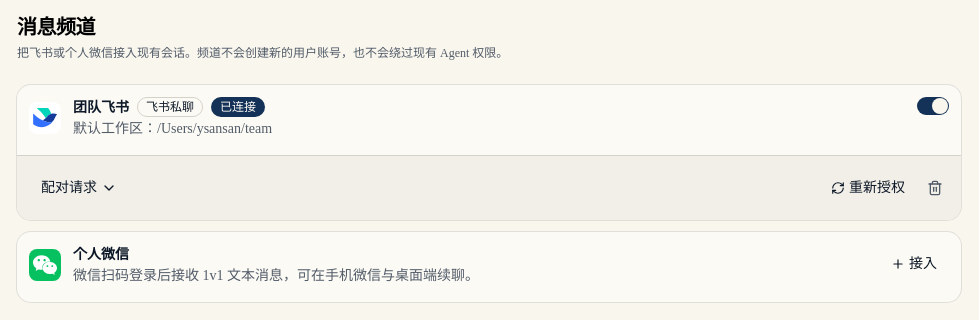
Test: channelsPage 平台槽位布局 › 用开关停用频道，并同步状态徽标
Click the switch named "停用频道" at (933, 106), box left=917, top=97, right=949, bottom=115
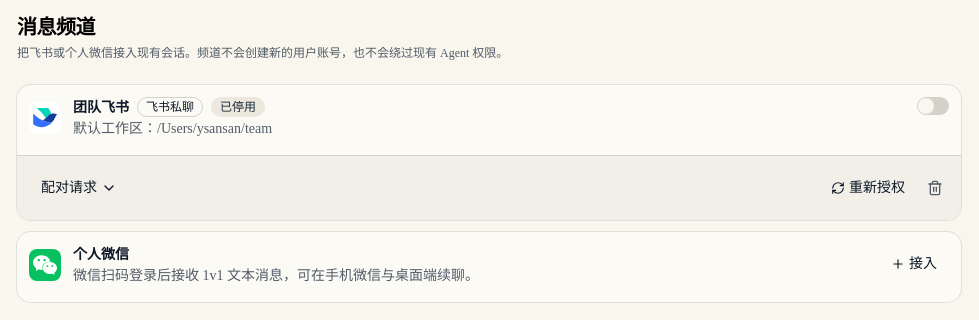
Expected: the icon "已停用" is shown, left=211, top=97, right=265, bottom=117
